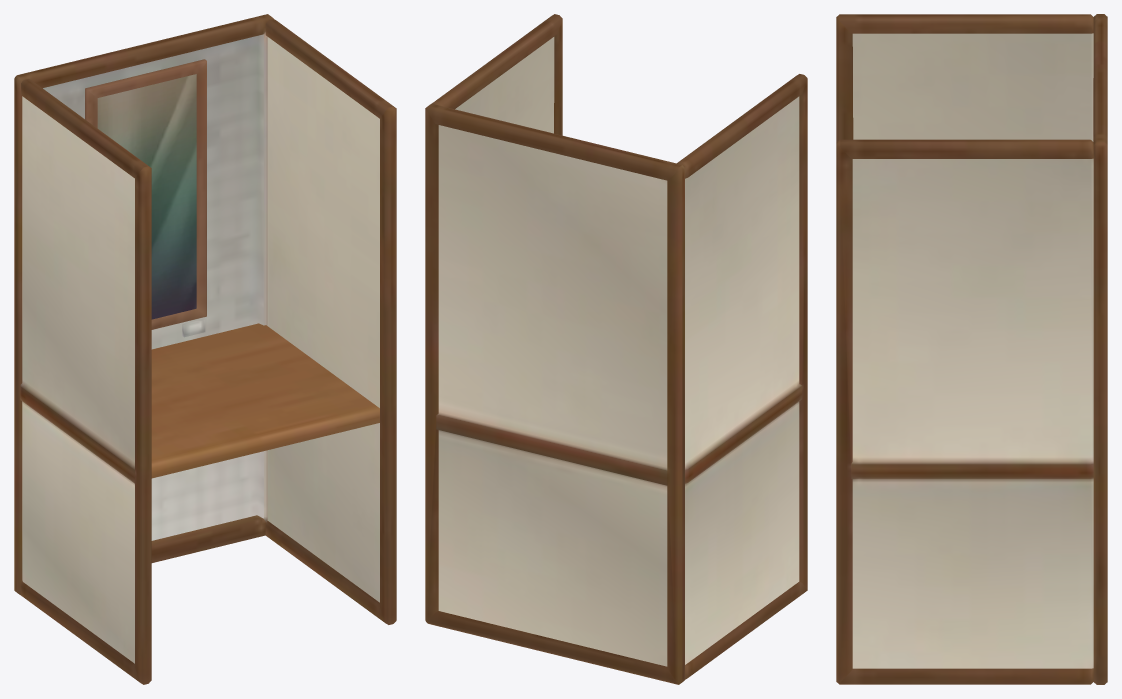
The picture shows the model from 3 angles, left to right: view 1: azimuth 30°, elevation 25°; view 2: azimuth 150°, elevation 25°; view 3: azimuth 270°, elevation 25°; orthographic projection. The views are drawn at different scales.
Bounding box in the file's own units: 10 × 19.3 × 8.74.
Materials: 2 (2 with a texture image).
